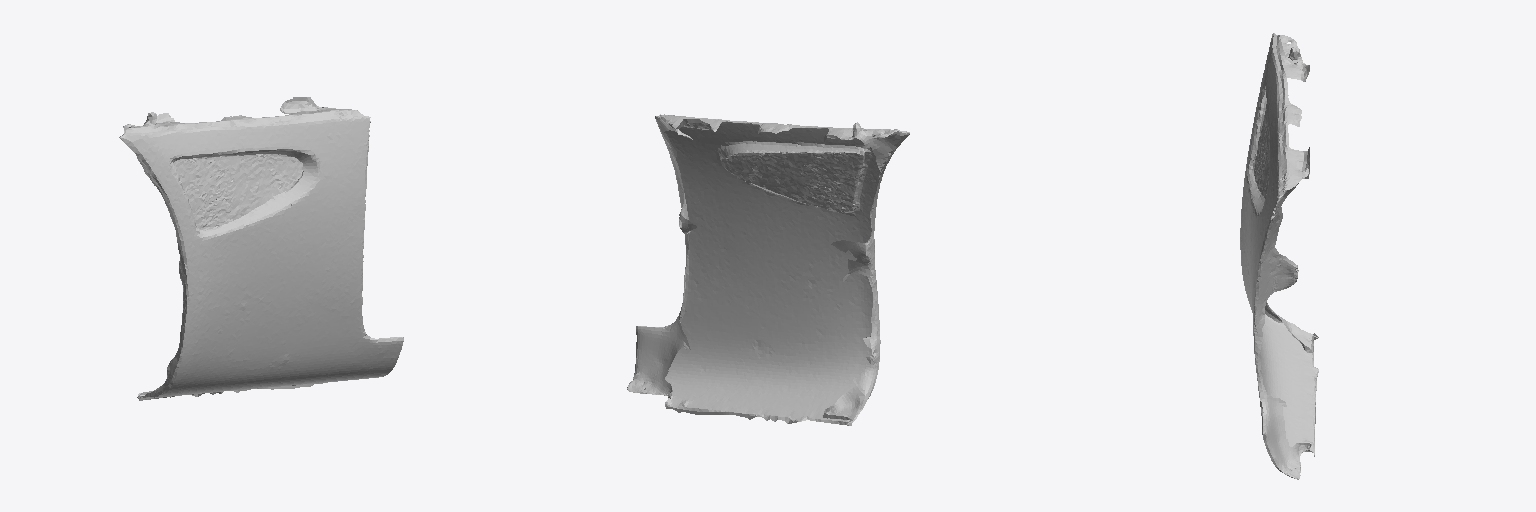
Rendered from babyPowder_cropped_quads.obj.
The picture shows the model from 3 angles: view 1: azimuth 30°, elevation 25°; view 2: azimuth 150°, elevation 25°; view 3: azimuth 270°, elevation 25°; orthographic projection.
Bounding box in the file's own units: 11.13 × 12.29 × 2.73.